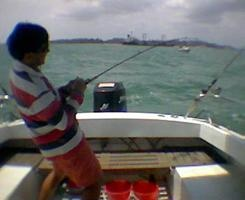person without safety: (6, 21, 107, 193)
